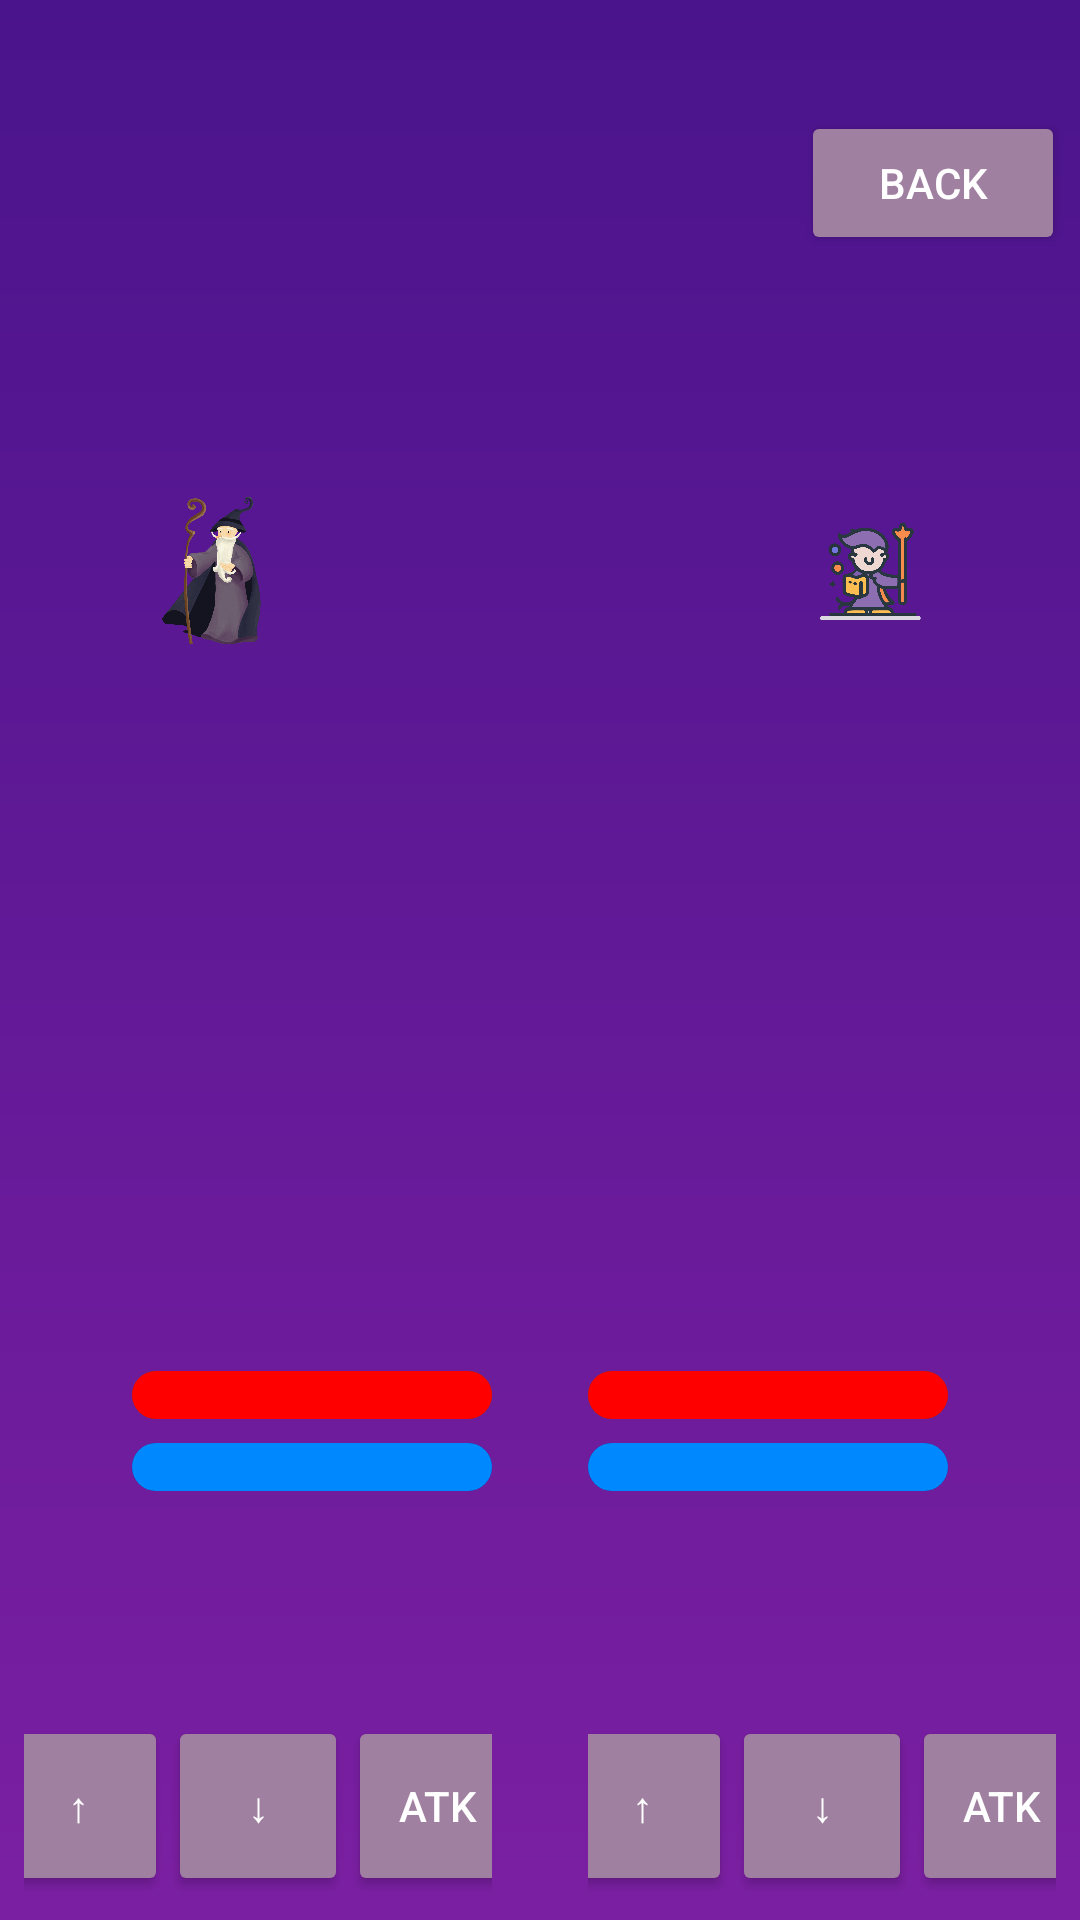

Icon bounding boxes for this 1080 × 1920 phone screenshot, format Rect(x1, y1, x2, y2):
wizard: Rect(162, 497, 261, 645), Rect(820, 522, 921, 620)
